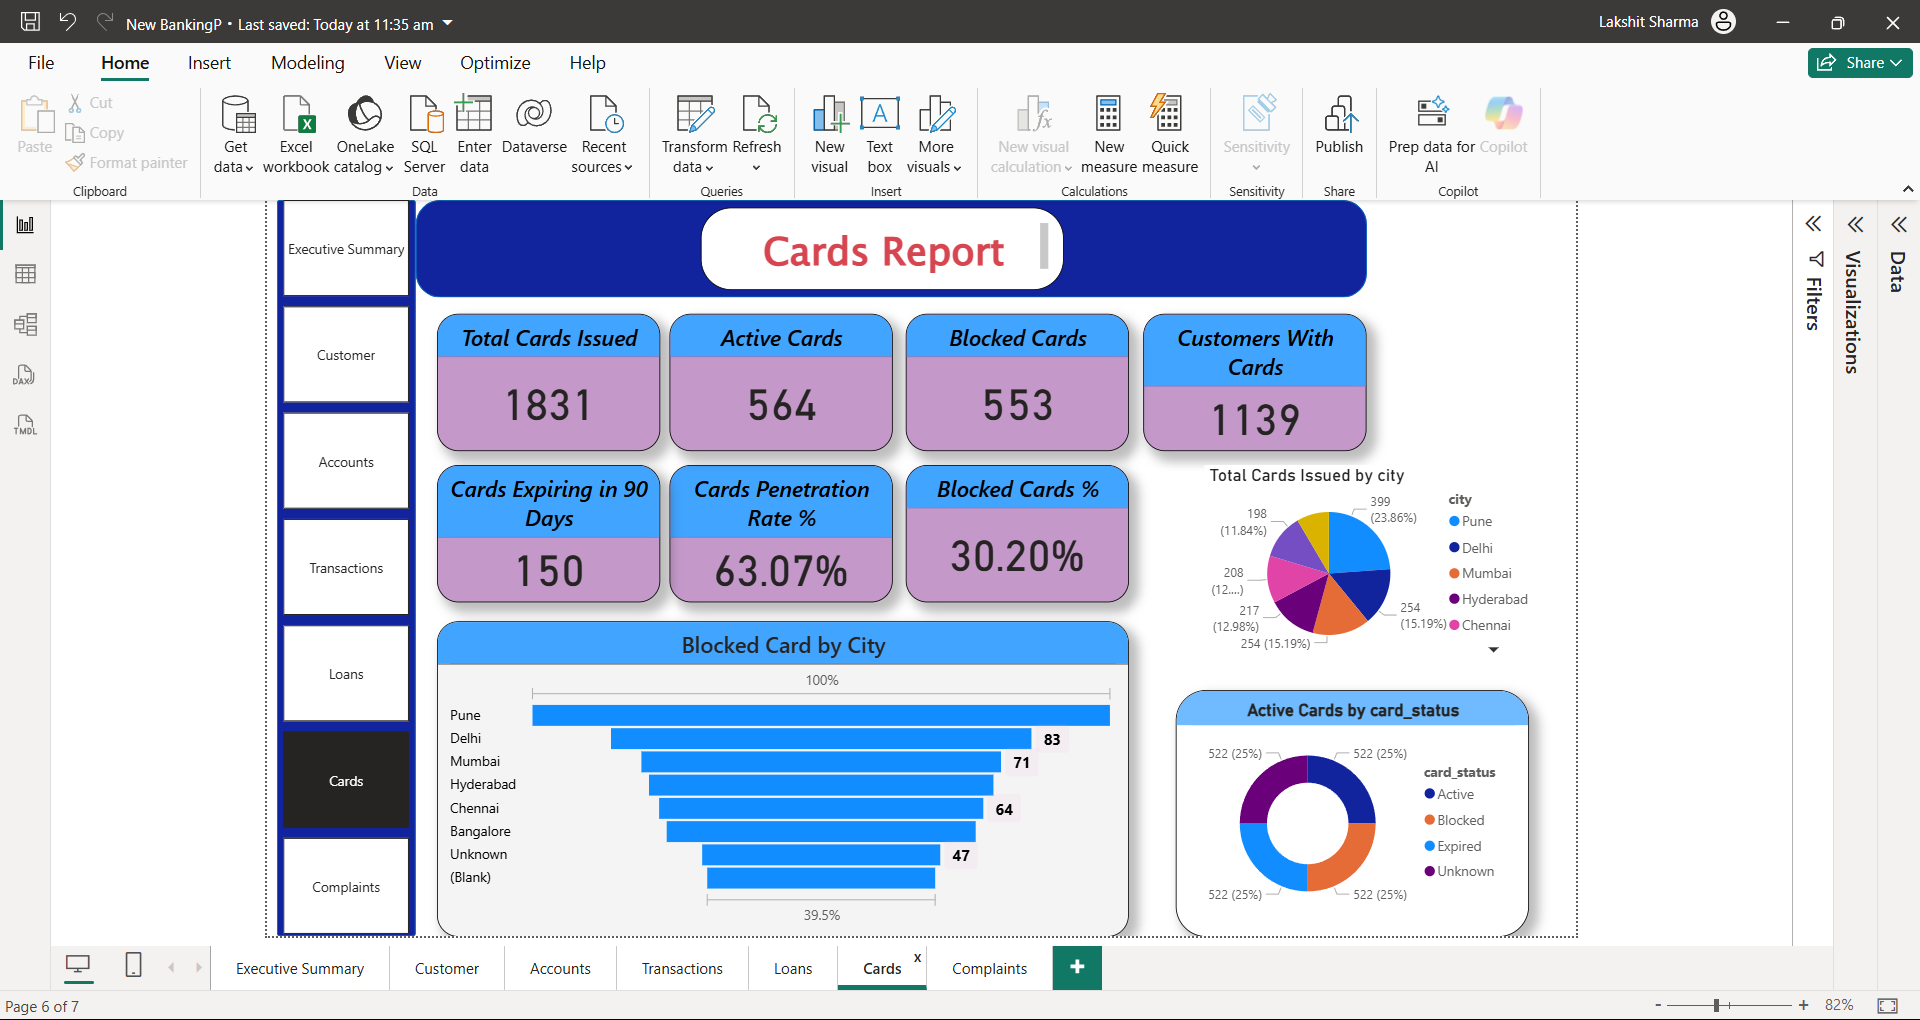

What the dashboard file says about the page in this screenshot:
{"tool":"powerbi","page":{"name":"Cards","canvas":[1280,720],"ordinal":5},"visuals":[{"type":"card","title":"Total Cards Issued","fields":{"Values":["All Measures.Total Cards Issued"]},"box":[166,111.1,218.2,134.5],"z":0},{"type":"card","title":"Customers With Cards","fields":{"Values":["All Measures.Customers with Cards"]},"box":[857.6,111.1,218.2,134.5],"z":1000},{"type":"card","title":"Cards Penetration Rate %","fields":{"Values":["All Measures.Card Penetration Rate %"]},"box":[393.8,259.3,218.2,134.5],"z":2000},{"type":"card","title":"Active Cards","fields":{"Values":["All Measures.Active Cards"]},"box":[393.8,111.1,218.2,134.5],"z":3000},{"type":"card","title":"Blocked Cards","fields":{"Values":["All Measures.Blocked Cards"]},"box":[624.4,111.1,218.2,134.5],"z":4000},{"type":"card","title":"Blocked Cards %","fields":{"Values":["All Measures.Blocked Card %"]},"box":[624.4,259.3,218.2,134.5],"z":5000},{"type":"card","title":"Cards Expiring in 90 Days","fields":{"Values":["All Measures.Cards Expiring Soon"]},"box":[166,259.3,218.2,134.5],"z":6000},{"type":"shape","box":[145.5,0,930.6,95.4],"z":7000},{"type":"shape","box":[9.8,0,135.7,720.2],"z":8000},{"type":"textbox","box":[424,6.9,355.4,81],"z":9000},{"type":"pageNavigator","box":[16.5,0,123.5,720.4],"z":10000},{"type":"donutChart","fields":{"Y":["All Measures.Active Cards"],"Category":["cards.card_status"]},"box":[889.2,478.9,345.8,241.5],"z":11000},{"type":"pieChart","fields":{"Y":["All Measures.Total Cards Issued"],"Category":["customers.city"]},"box":[916.6,259.3,330.7,193.5],"z":12000},{"type":"funnel","title":"Blocked Card by City","fields":{"Y":["All Measures.Blocked Cards"],"Category":["customers.city"]},"box":[166,411.7,676.5,308.7],"z":13000}]}

Visuals, with their boxes on the page's 1280x720 design canvas (x1, y1, x2, y2). These are canvas units, not pixel positions in the 1920x1020 screenshot, which may show the page scaled, cropped or inside an application window:
"Total Cards Issued" card: BBox(166, 111, 384, 246)
"Customers With Cards" card: BBox(858, 111, 1076, 246)
"Cards Penetration Rate %" card: BBox(394, 259, 612, 394)
"Active Cards" card: BBox(394, 111, 612, 246)
"Blocked Cards" card: BBox(624, 111, 843, 246)
"Blocked Cards %" card: BBox(624, 259, 843, 394)
"Cards Expiring in 90 Days" card: BBox(166, 259, 384, 394)
shape: BBox(146, 0, 1076, 95)
shape: BBox(10, 0, 146, 720)
textbox: BBox(424, 7, 779, 88)
pageNavigator: BBox(16, 0, 140, 720)
donutChart - All Measures.Active Cards x cards.card_status: BBox(889, 479, 1235, 720)
pieChart - All Measures.Total Cards Issued x customers.city: BBox(917, 259, 1247, 453)
"Blocked Card by City" funnel: BBox(166, 412, 842, 720)
